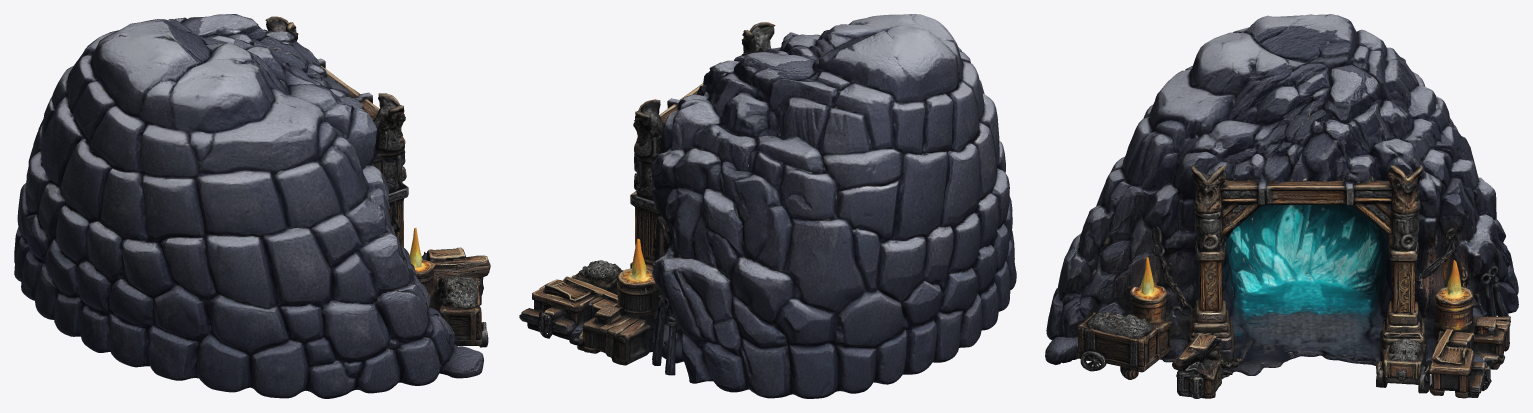
The model's file is tripo_convert_d00c9aa4-a3e6-45a9-bcb6-1dc4c14029c7.fbx.
3 renders of one model, left to right at view 1: azimuth 30°, elevation 25°; view 2: azimuth 150°, elevation 25°; view 3: azimuth 270°, elevation 25°, orthographic. The views are drawn at different scales.
Parts seen in each view (by area): view 1: tripo_node_d00c9aa4; view 2: tripo_node_d00c9aa4; view 3: tripo_node_d00c9aa4.
Boxes of the visible parts, x1=… form: tripo_node_d00c9aa4: x1=14, y1=14, x2=490, y2=398; tripo_node_d00c9aa4: x1=519, y1=14, x2=1016, y2=398; tripo_node_d00c9aa4: x1=1045, y1=14, x2=1518, y2=398.
Size of the model in its own units: 0.7956 by 0.6023 by 0.9796.
Materials: 1 (1 with a texture image).
